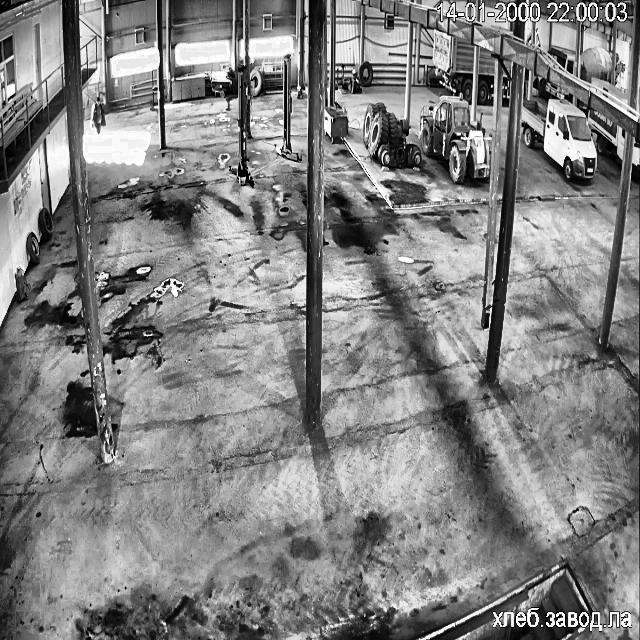car lift: (229, 67, 253, 186), (275, 53, 300, 161)
fire extinguisher: (16, 268, 28, 300)
mechanic: (92, 97, 104, 132)
tractor: (420, 96, 489, 182), (362, 102, 420, 166)
truck: (521, 99, 596, 180), (432, 28, 473, 101), (588, 108, 624, 160), (580, 45, 611, 83), (477, 47, 494, 103), (536, 77, 571, 99), (592, 81, 628, 102), (548, 45, 574, 73), (632, 140, 640, 180), (498, 73, 509, 99), (616, 59, 623, 76), (504, 60, 510, 74)
